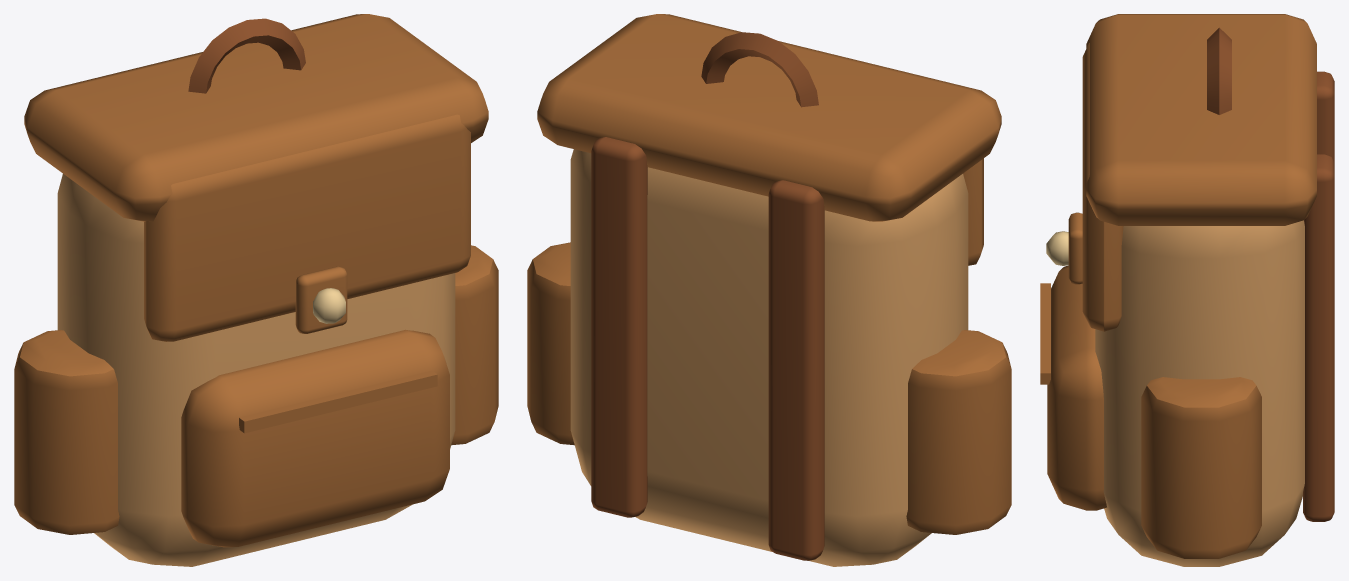
The model's file is WoodBackpack.fbx.
3 views of the same model, side by side, from view 1: azimuth 30°, elevation 25°; view 2: azimuth 150°, elevation 25°; view 3: azimuth 270°, elevation 25° (orthographic). The views are drawn at different scales.
Parts seen in each view (by area): view 1: WoodBackpack; view 2: WoodBackpack; view 3: WoodBackpack.
Boxes of the visible parts, x1=… form: WoodBackpack: x1=14, y1=14, x2=498, y2=566; WoodBackpack: x1=527, y1=14, x2=1011, y2=566; WoodBackpack: x1=1040, y1=14, x2=1334, y2=566.
Size of the model in its own units: 2.89 by 2.99 by 1.66.
1 material, 1 textured.
